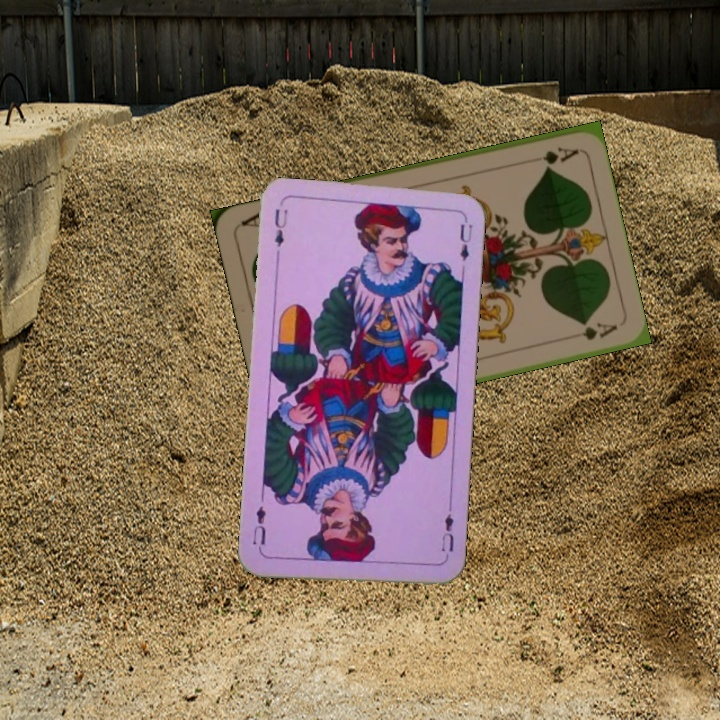EU: (437, 503, 457, 562), (271, 204, 291, 250)
GA: (522, 143, 581, 167)
